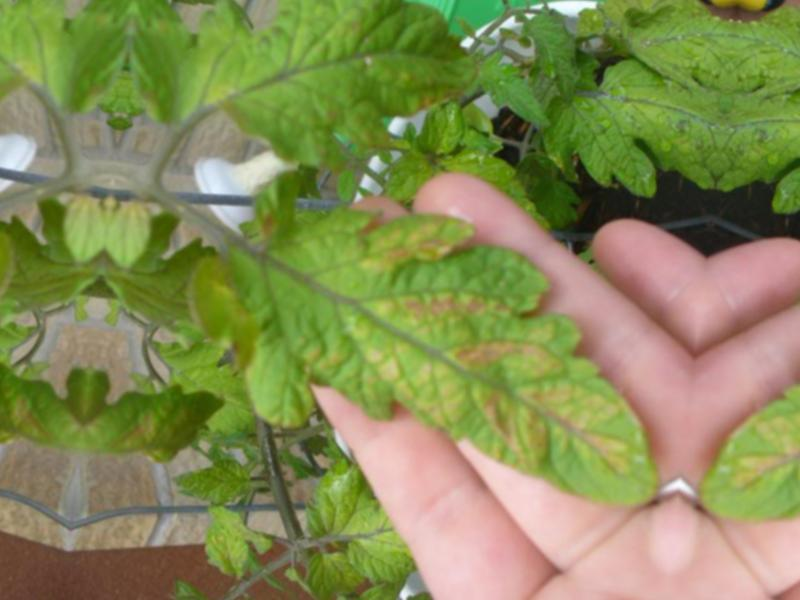Tomato leaf bacterial spot: (167, 174, 693, 530), (140, 0, 500, 202)
